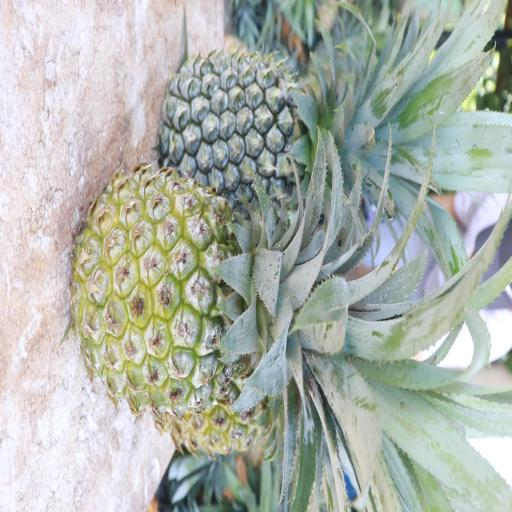------------------------------: (72, 157, 358, 410)
